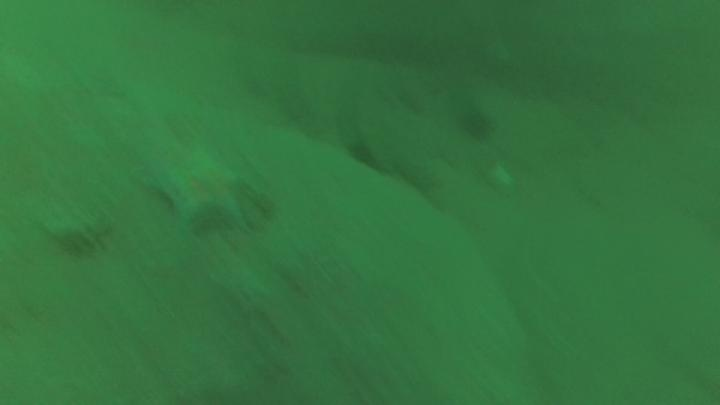echinus: (456, 104, 497, 143), (343, 136, 384, 175)
holothurian: (43, 202, 119, 257)
starfish: (143, 139, 254, 234)
